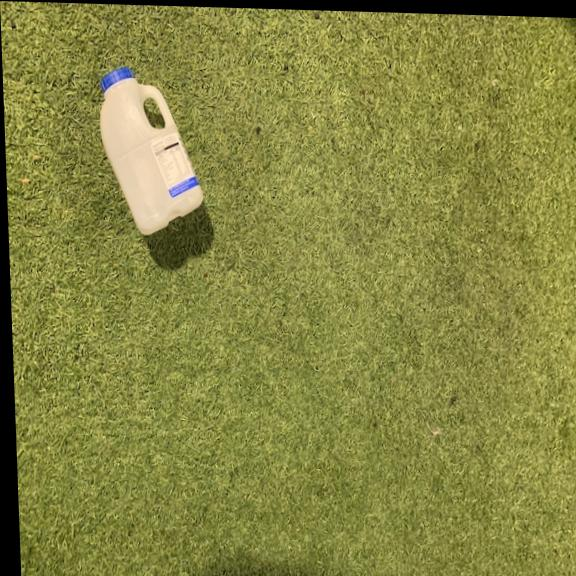Plastik: (96, 65, 209, 240)
